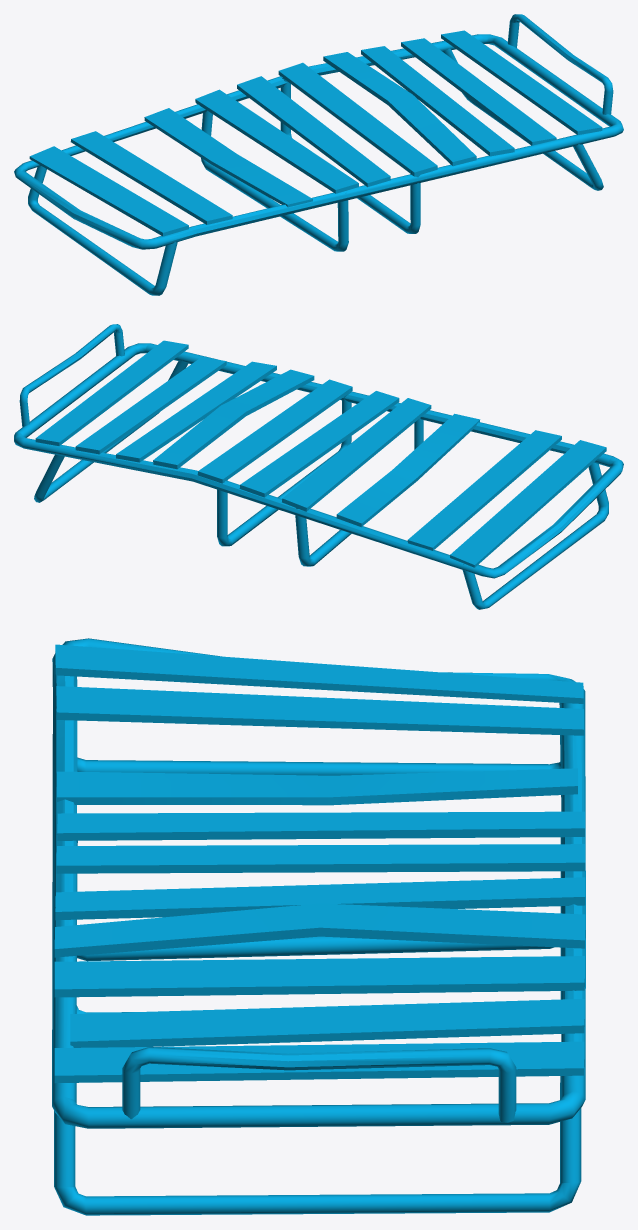
File: Folding_Bed_01_Break_02_Lod0.fbx
3 views of the same model, one above another, from view 1: azimuth 30°, elevation 25°; view 2: azimuth 150°, elevation 25°; view 3: azimuth 270°, elevation 25° (orthographic). The views are drawn at different scales.
Parts seen in each view (by area): view 1: Folding_Bed_01_Break_02_Lod0; view 2: Folding_Bed_01_Break_02_Lod0; view 3: Folding_Bed_01_Break_02_Lod0.
Part boxes in pixels (left/top/right/bottom): Folding_Bed_01_Break_02_Lod0: left=14, top=14, right=623, bottom=295; Folding_Bed_01_Break_02_Lod0: left=14, top=324, right=623, bottom=609; Folding_Bed_01_Break_02_Lod0: left=52, top=638, right=585, bottom=1215.
Size of the model in its own units: 211 by 38.61 by 98.39.
